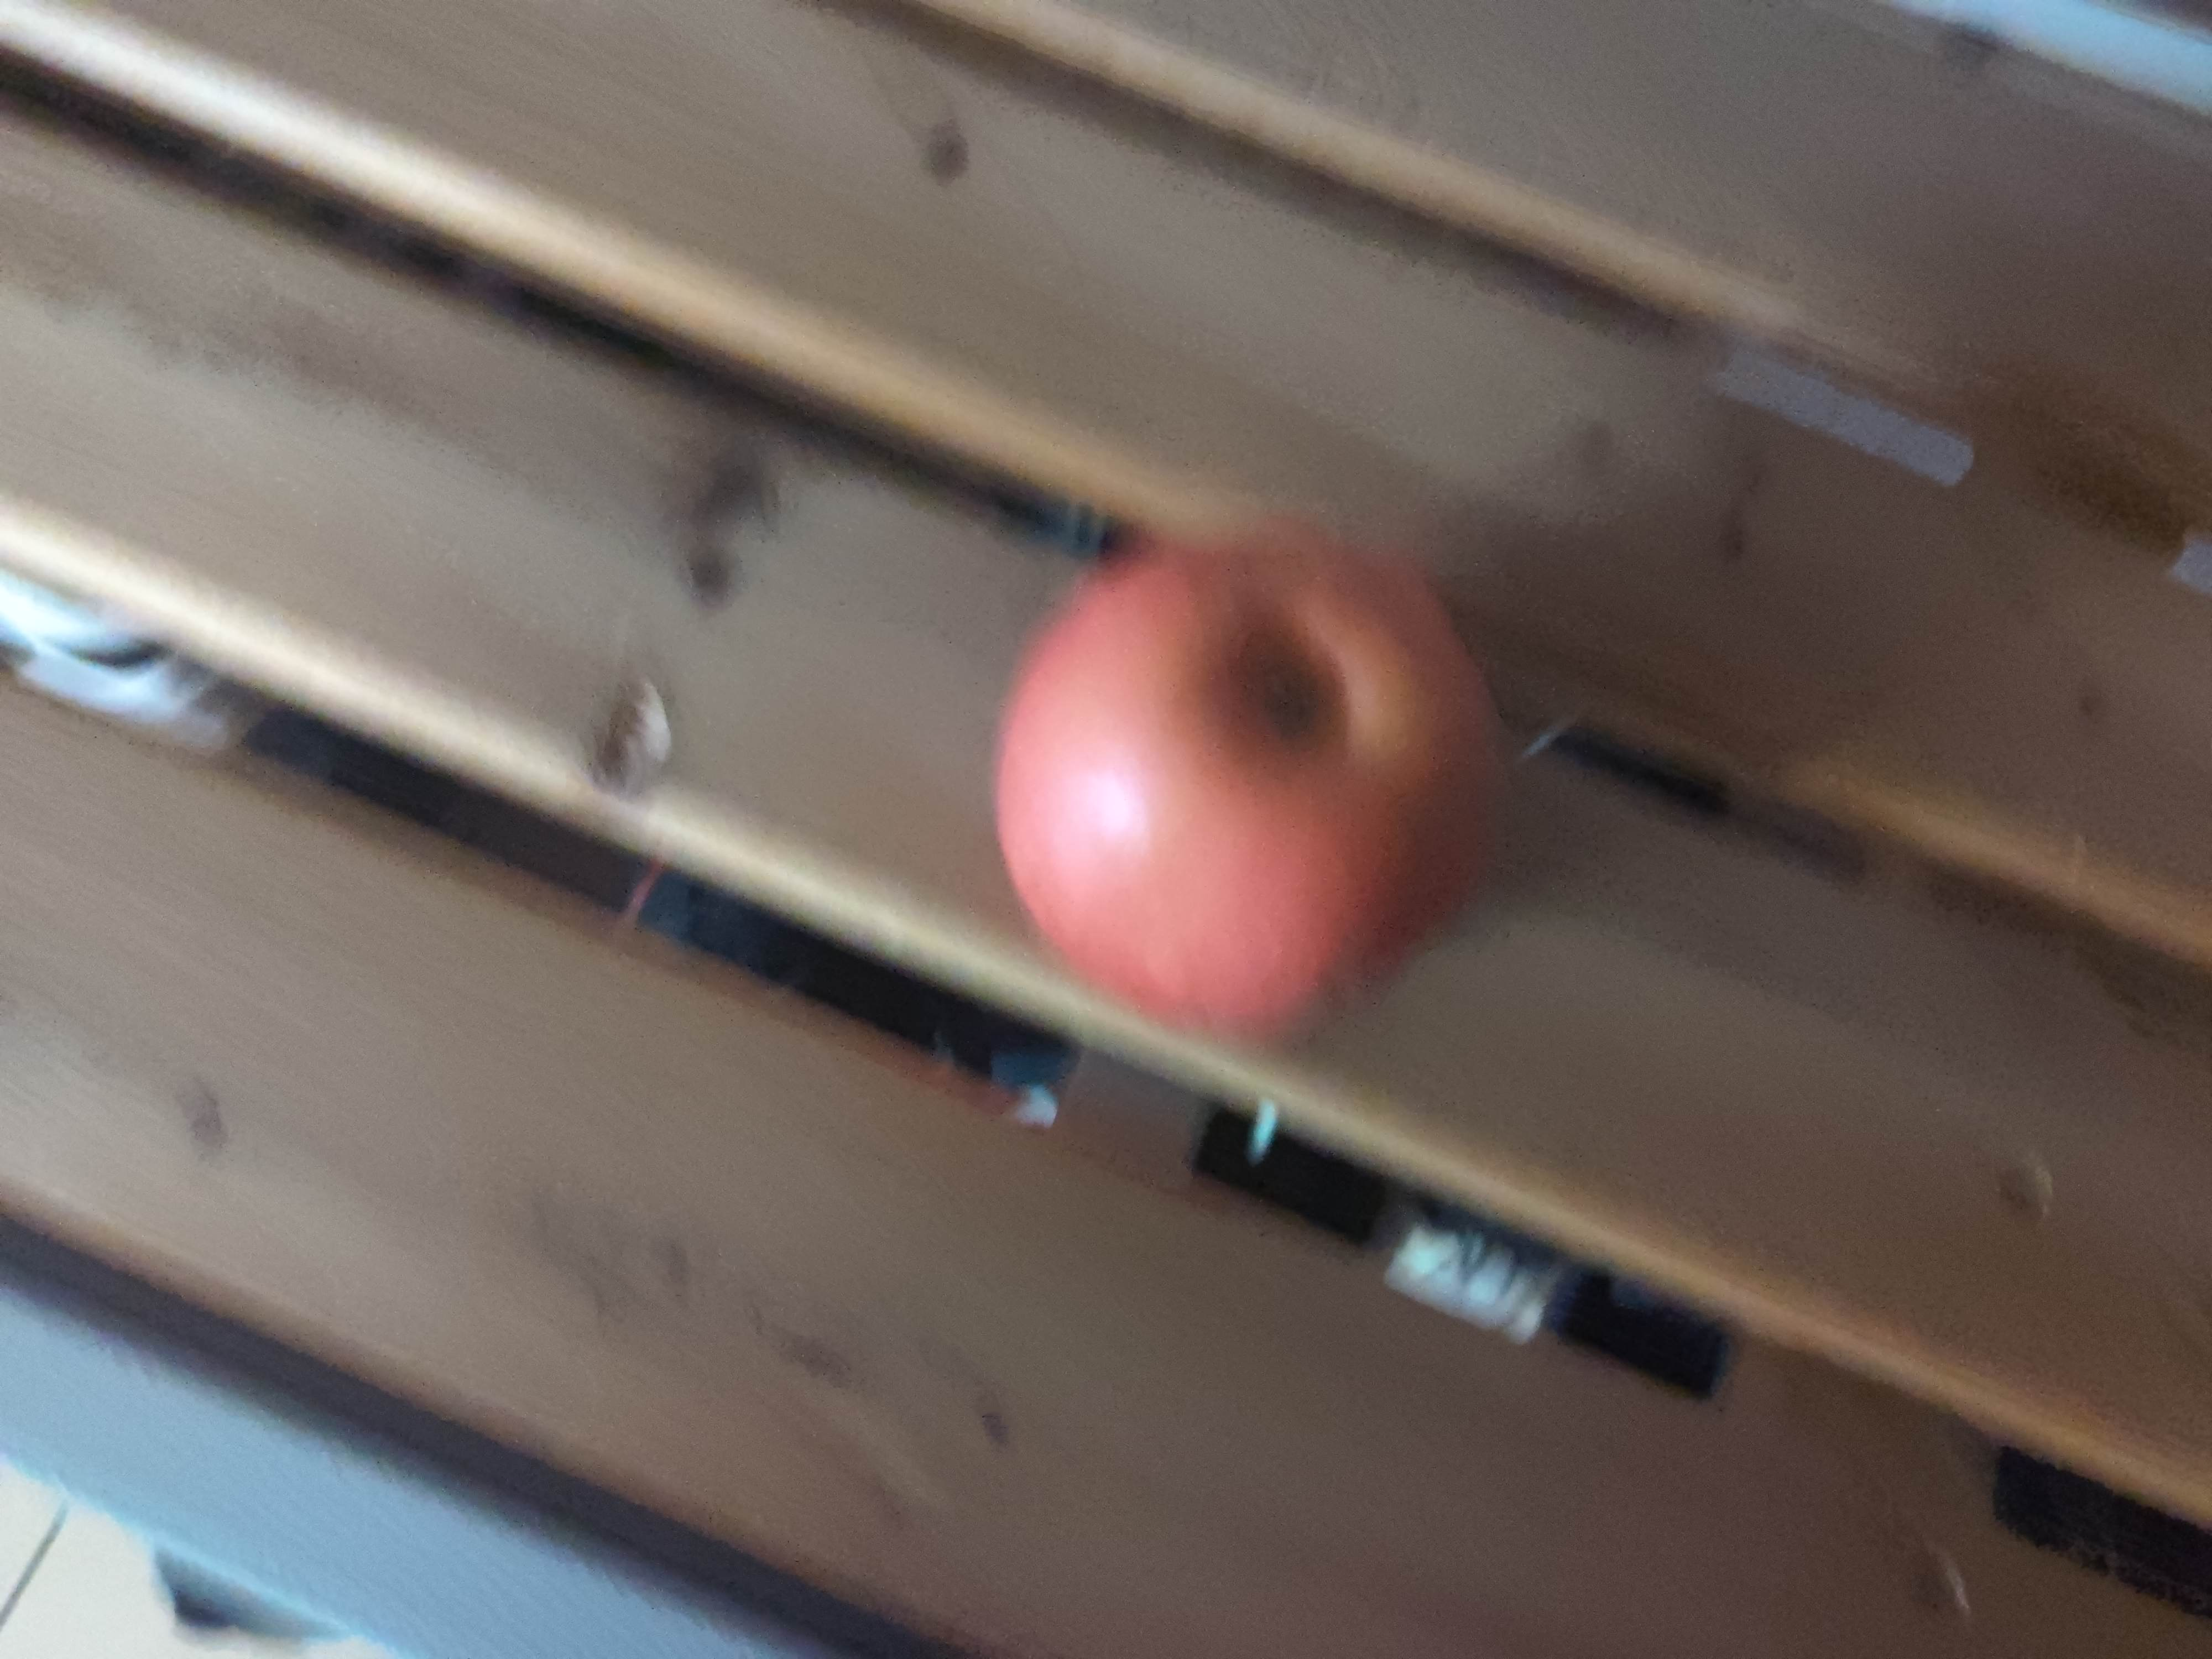apple: (995, 509, 1500, 1026)
